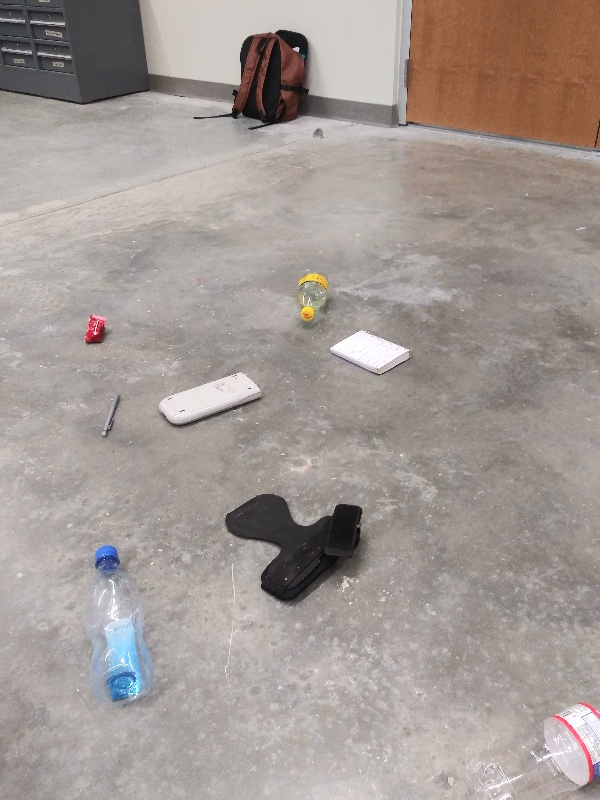bottle: (464, 698, 600, 799), (83, 540, 154, 701), (294, 265, 334, 325)
